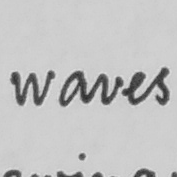a: (57, 68, 90, 110)
e: (126, 68, 149, 107)
s: (151, 65, 173, 107)
v: (98, 72, 124, 106)
w: (8, 67, 56, 107)
